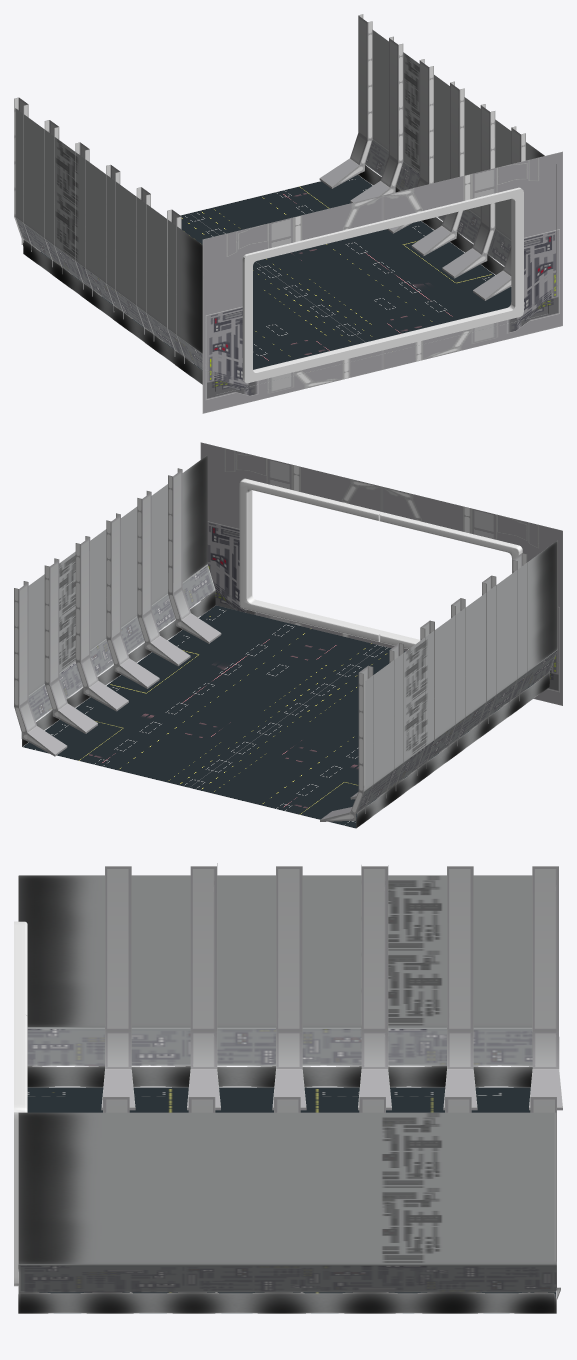
Rendered from Hangr.fbx.
3 views of the same model, one above another, from view 1: azimuth 30°, elevation 25°; view 2: azimuth 150°, elevation 25°; view 3: azimuth 270°, elevation 25° (orthographic). The views are drawn at different scales.
Parts seen in each view (by area): view 1: pPlane1, pPlane2, pCube9, pCube3, pCube4, pCube7, pCube6, pCube5, pCube8, pCube15, pCube11; view 2: pPlane1, pPlane2, pCube9, pCube4, pCube5, pCube3, pCube6, pCube7, pCube8, pCube15, pCube14, pCube10 (+3 smaller); view 3: pPlane1, pCube11, pCube13, pCube15, pCube10, pCube12, pCube14, pCube9, pCube3.
Part boxes in pixels (x1=…): pPlane1: x1=15, y1=30, x2=556, y2=394; pPlane2: x1=202, y1=151, x2=562, y2=413; pCube9: x1=242, y1=187, x2=523, y2=383; pCube3: x1=319, y1=14, x2=372, y2=188; pCube4: x1=350, y1=36, x2=403, y2=202; pCube7: x1=442, y1=104, x2=495, y2=278; pCube6: x1=411, y1=81, x2=464, y2=255; pCube5: x1=387, y1=59, x2=433, y2=233; pCube8: x1=473, y1=126, x2=525, y2=300; pCube15: x1=14, y1=97, x2=40, y2=251; pCube11: x1=136, y1=187, x2=163, y2=341; pPlane1: x1=22, y1=455, x2=557, y2=828; pPlane2: x1=200, y1=442, x2=562, y2=705; pCube9: x1=239, y1=478, x2=522, y2=649; pCube4: x1=44, y1=558, x2=97, y2=733; pCube5: x1=75, y1=536, x2=128, y2=711; pCube3: x1=14, y1=581, x2=67, y2=756; pCube6: x1=106, y1=513, x2=159, y2=688; pCube7: x1=137, y1=491, x2=190, y2=666; pCube8: x1=168, y1=468, x2=221, y2=643; pCube15: x1=320, y1=665, x2=373, y2=821; pCube14: x1=350, y1=643, x2=403, y2=799; pCube10: x1=500, y1=553, x2=527, y2=708; pPlane1: x1=18, y1=875, x2=556, y2=1313; pCube11: x1=187, y1=863, x2=220, y2=1110; pCube13: x1=358, y1=865, x2=391, y2=1110; pCube15: x1=529, y1=866, x2=562, y2=1110; pCube10: x1=101, y1=866, x2=135, y2=1110; pCube12: x1=272, y1=866, x2=306, y2=1110; pCube14: x1=443, y1=866, x2=477, y2=1110; pCube9: x1=14, y1=921, x2=27, y2=1286; pCube3: x1=528, y1=1097, x2=560, y2=1299.
Size of the model in its own units: 425 by 196 by 401.
